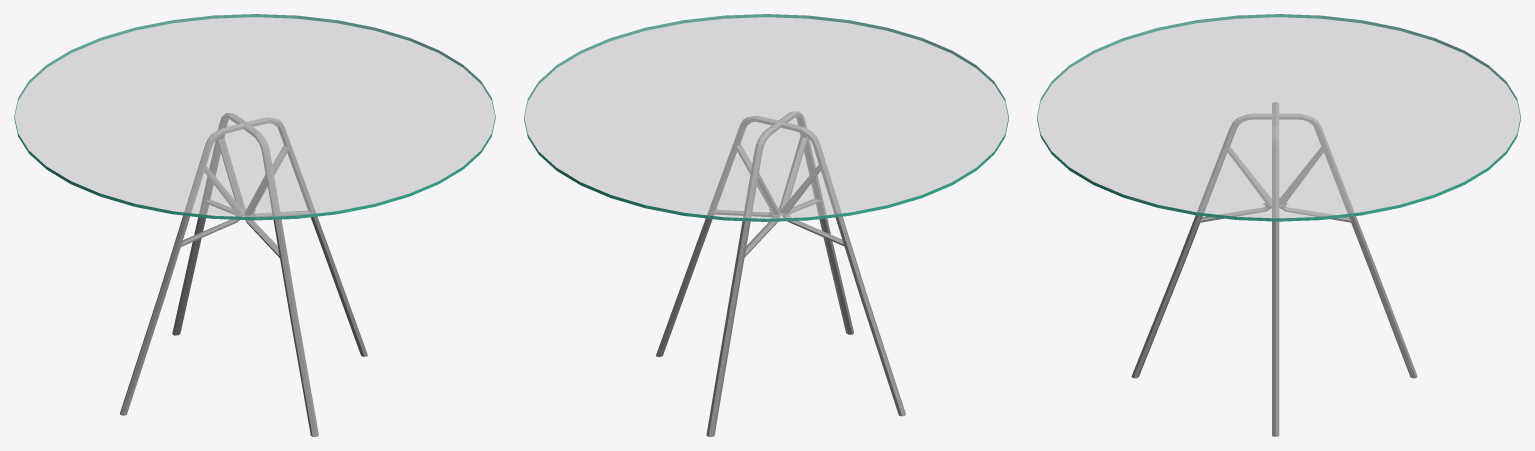
The model's file is Diningchair.fbx.
3 views of the same model, side by side, from view 1: azimuth 30°, elevation 25°; view 2: azimuth 150°, elevation 25°; view 3: azimuth 270°, elevation 25° (orthographic).
Parts seen in each view (by area): view 1: Table; view 2: Table; view 3: Table.
Part boxes in pixels (x1,y1,x2,y2): Table: (14, 14, 495, 436); Table: (524, 14, 1008, 436); Table: (1037, 14, 1520, 436).
Bounding box in the file's own units: 996 × 605 × 996.
